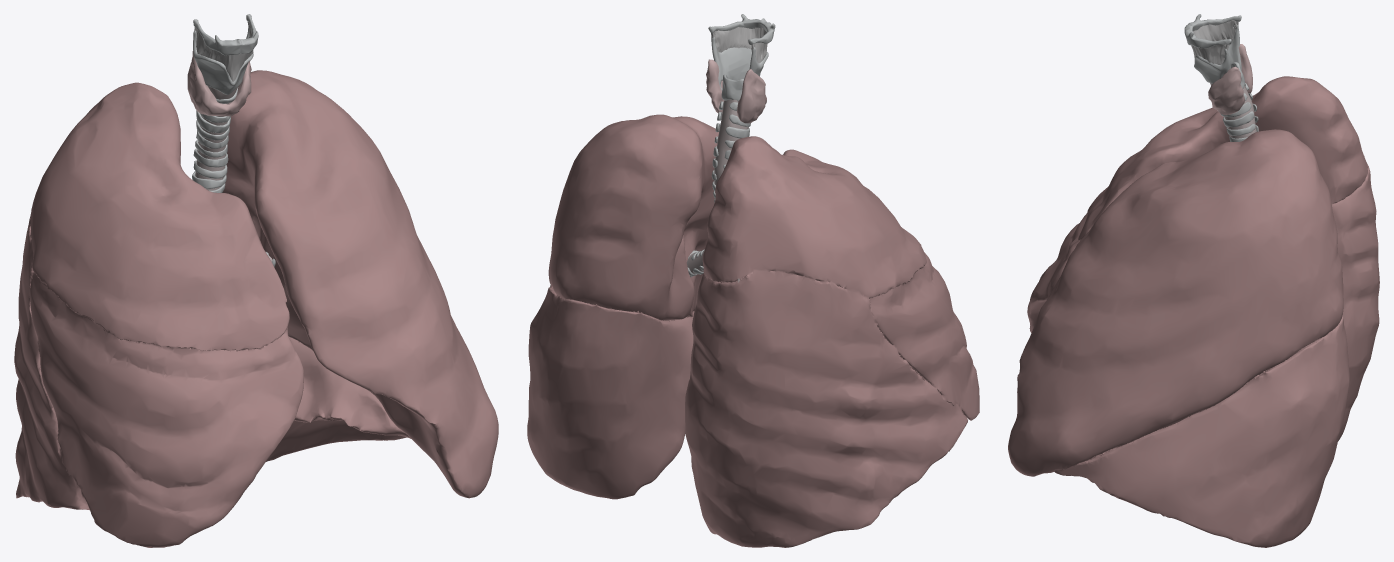
The picture shows the model from 3 angles, left to right: view 1: azimuth 30°, elevation 25°; view 2: azimuth 150°, elevation 25°; view 3: azimuth 270°, elevation 25°; orthographic projection. The views are drawn at different scales.
Visible parts, largest first — view 1: Linkerlong, Hyoid_bone, Trachea_kraakbeen, Thyroid_gland, Tussen_hyoid_en_thyroid, bronchi1; view 2: Linkerlong, Hyoid_bone, Thyroid_gland, bronchi1, Tussen_hyoid_en_thyroid, Trachea_kraakbeen; view 3: Linkerlong, Hyoid_bone, Thyroid_gland, Tussen_hyoid_en_thyroid, Trachea_kraakbeen.
Boxes of the visible parts, left/top/right/bottom form: Linkerlong: left=14, top=70, right=498, bottom=547; Hyoid_bone: left=193, top=14, right=258, bottom=103; Trachea_kraakbeen: left=192, top=110, right=275, bottom=266; Thyroid_gland: left=187, top=51, right=251, bottom=116; Tussen_hyoid_en_thyroid: left=194, top=21, right=253, bottom=81; bronchi1: left=195, top=86, right=272, bottom=261; Linkerlong: left=527, top=114, right=979, bottom=547; Hyoid_bone: left=708, top=14, right=775, bottom=101; Thyroid_gland: left=706, top=59, right=766, bottom=123; bronchi1: left=686, top=99, right=748, bottom=276; Tussen_hyoid_en_thyroid: left=711, top=27, right=767, bottom=62; Trachea_kraakbeen: left=687, top=101, right=750, bottom=277; Linkerlong: left=1008, top=76, right=1379, bottom=547; Hyoid_bone: left=1184, top=14, right=1244, bottom=88; Thyroid_gland: left=1208, top=44, right=1252, bottom=114; Tussen_hyoid_en_thyroid: left=1191, top=20, right=1238, bottom=64; Trachea_kraakbeen: left=1221, top=83, right=1258, bottom=141.
Bounding box in the file's own units: 0.1845 × 0.2103 × 0.1573.
